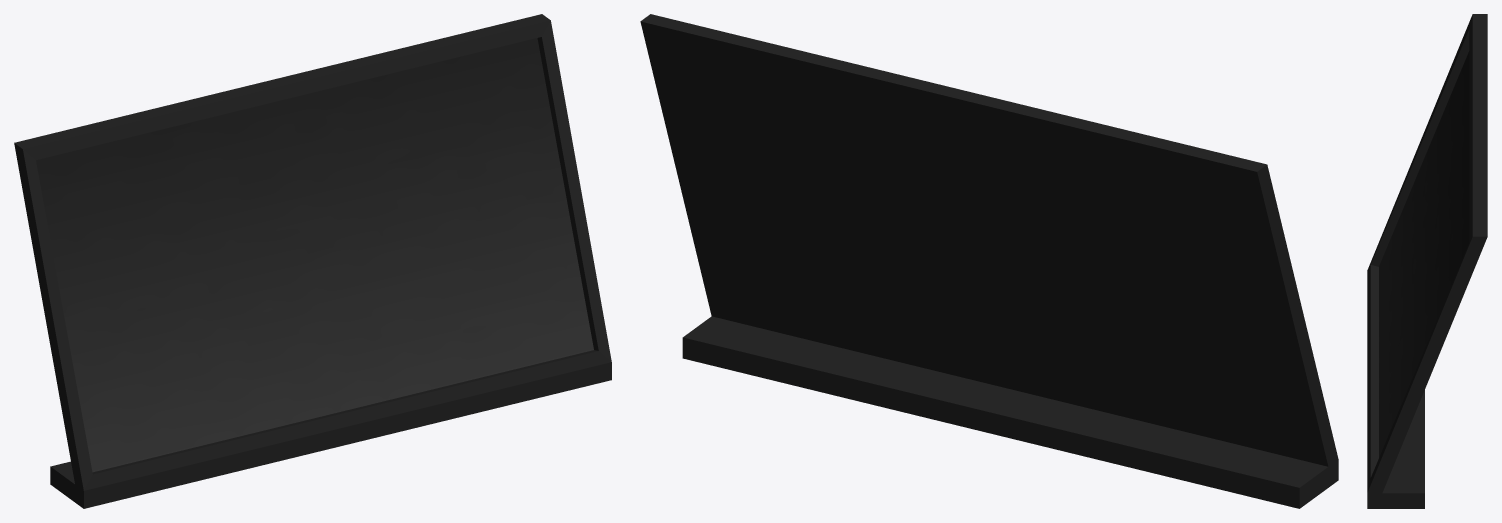
File: PortableScreenV1.fbx
3 renders of one model, left to right at view 1: azimuth 30°, elevation 25°; view 2: azimuth 150°, elevation 25°; view 3: azimuth 270°, elevation 25°, orthographic. The views are drawn at different scales.
Visible parts, largest first — view 1: PortableScreenV1; view 2: PortableScreenV1; view 3: PortableScreenV1.
Boxes of the visible parts, box(x1,y1,x2,y2) form: PortableScreenV1: box(14, 14, 611, 508); PortableScreenV1: box(640, 14, 1338, 508); PortableScreenV1: box(1367, 14, 1487, 508).
Size of the model in its own units: 34.54 by 19.7 by 7.9.
